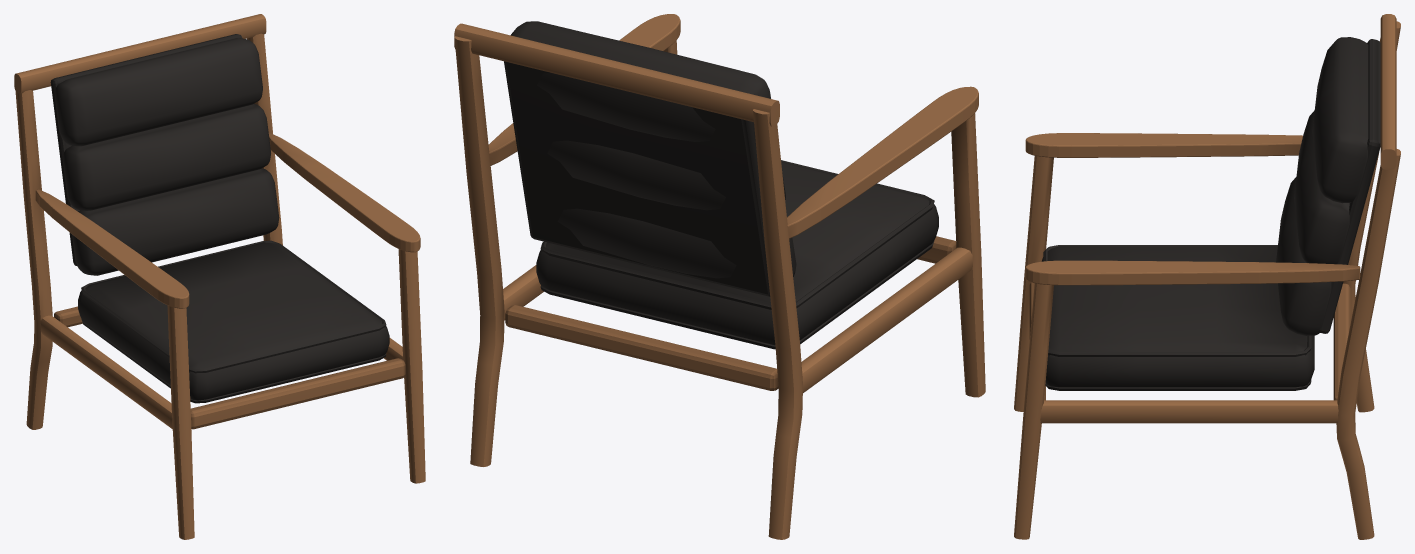
File: armchairLeather.glb
3 renders of one model, left to right at view 1: azimuth 30°, elevation 25°; view 2: azimuth 150°, elevation 25°; view 3: azimuth 270°, elevation 25°, orthographic. The views are drawn at different scales.
Parts seen in each view (by area): view 1: chair, seat; view 2: chair, seat; view 3: chair, seat.
Boxes of the visible parts, x1,y1,x2,y2 form: chair: (14,14,425,539); seat: (78,240,389,403); chair: (454,14,985,539); seat: (536,160,938,349); chair: (1014,14,1400,539); seat: (1041,245,1314,390).
Size of the model in its own units: 0.7293 by 0.9455 by 0.8462.
